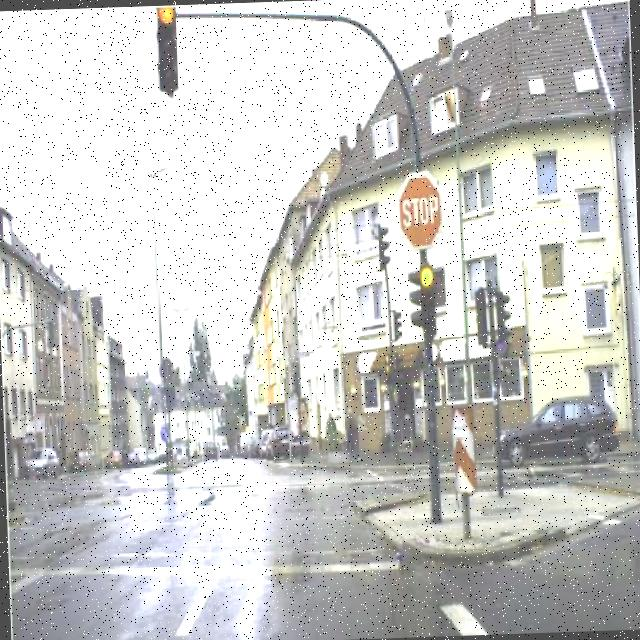Stop: (394, 170, 446, 252)
